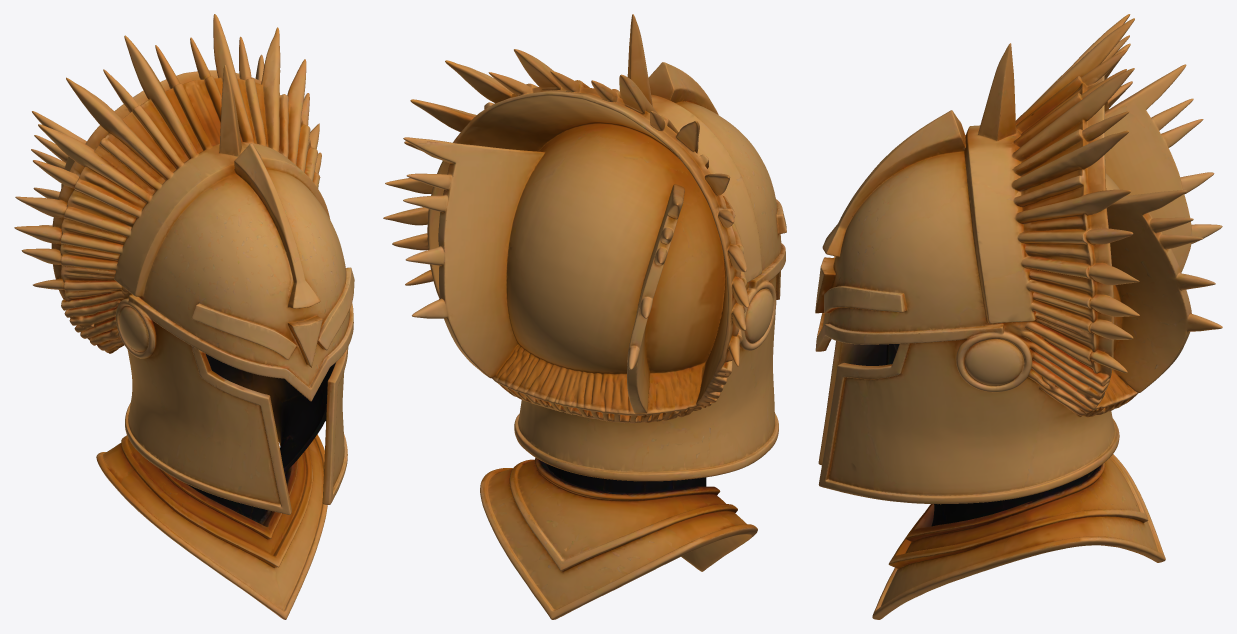
File: helmet-transformed.glb
3 views of the same model, side by side, from view 1: azimuth 30°, elevation 25°; view 2: azimuth 150°, elevation 25°; view 3: azimuth 270°, elevation 25° (orthographic). The views are drawn at different scales.
Parts seen in each view (by area): view 1: Egyptian_1; view 2: Egyptian_1; view 3: Egyptian_1.
Boxes of the visible parts, <box> form: Egyptian_1: <box>14,14,354,619</box>; Egyptian_1: <box>383,14,786,619</box>; Egyptian_1: <box>815,14,1222,619</box>.
Bounding box in the file's own units: 1.22 × 1.95 × 1.24.
1 material, 1 textured.
